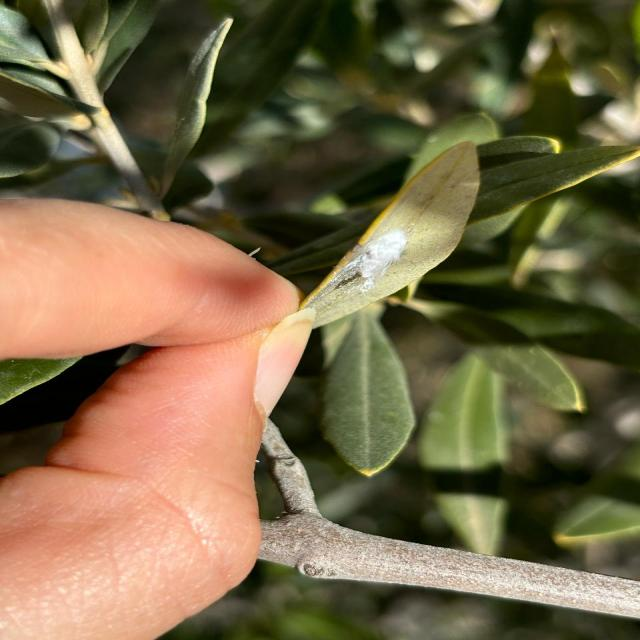Psyllid: (301, 142, 479, 328)
